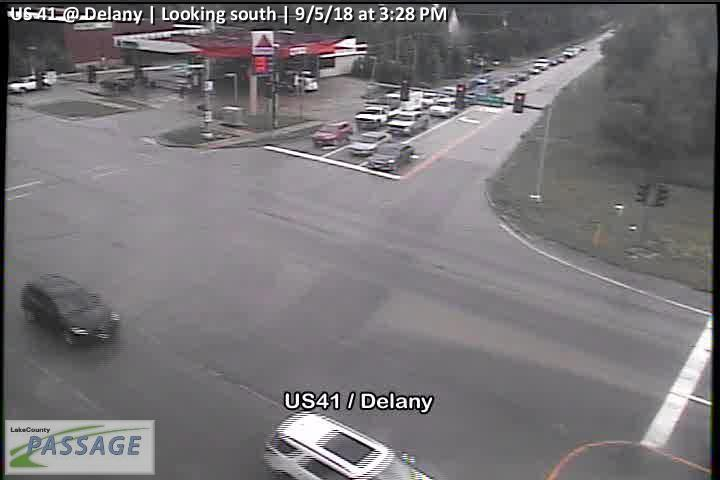SUV: (258, 407, 438, 480), (20, 271, 120, 350)
Sedan: (368, 142, 415, 173), (310, 118, 353, 147), (347, 129, 393, 156), (386, 108, 430, 136), (352, 105, 390, 128)
